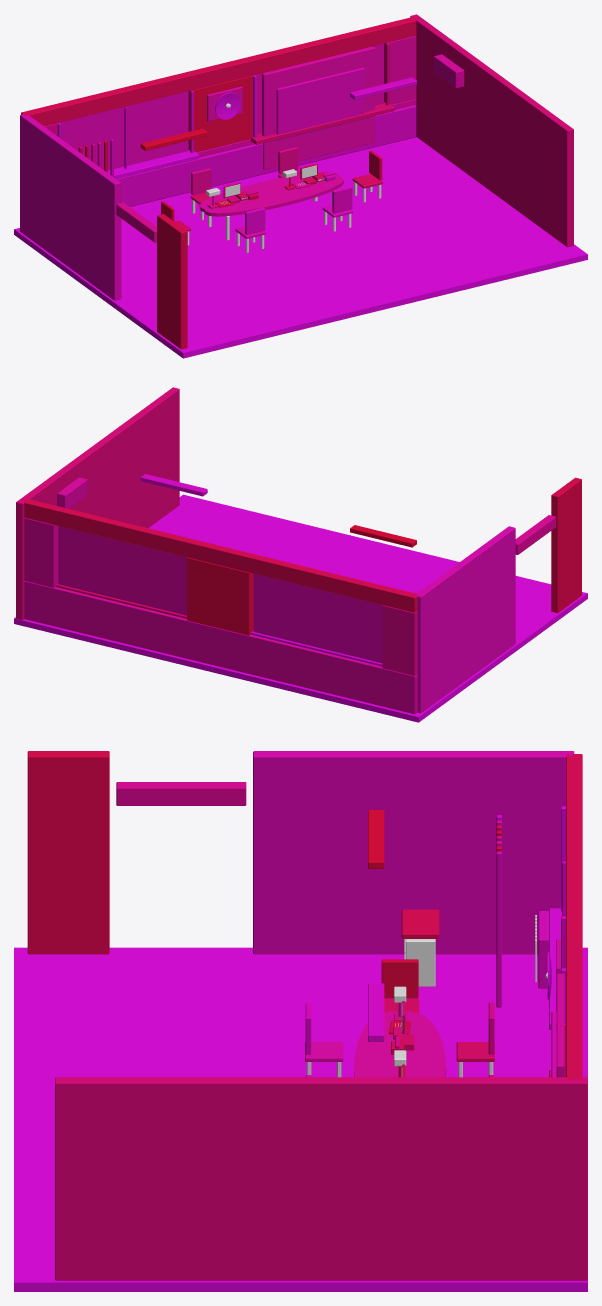
File: court_chapter_15.glb
The picture shows the model from 3 angles, top to bottom: view 1: azimuth 30°, elevation 25°; view 2: azimuth 150°, elevation 25°; view 3: azimuth 270°, elevation 25°; orthographic projection. The views are drawn at different scales.
Visible parts, largest first — view 1: Floor, WallRight, WallLeftRear, WallBackHigh, BriefingWall, Wainscot, Glazing_0, BriefingDisplay, WallLeftFront, CouncilTable, WallBackPier_1, WallBackPier_end (+16 smaller); view 2: Floor, WallBackLow, WallLeftRear, WallRight, WallBackHigh, Glazing_0, Glazing_1, WallBackPier_1, WallLeftFront, WallBackPier_0, WallBackPier_end, DoorLintel (+5 smaller); view 3: WallRight, Floor, WallLeftRear, WallLeftFront, WallBackHigh, CouncilTable, DoorLintel, ReceptionConsole, Chair_officials_4, Chair_officials_0, Chair_officials_2, Fluorescent_1 (+5 smaller).
Boxes of the visible parts, box(x1,y1,x2,y2) form: Floor: box(14, 137, 587, 358); WallRight: box(410, 14, 573, 247); WallLeftRear: box(20, 114, 121, 300); WallBackHigh: box(21, 16, 418, 126); BriefingWall: box(262, 46, 375, 169); Wainscot: box(116, 105, 416, 206); Glazing_0: box(59, 91, 188, 170); BriefingDisplay: box(276, 67, 364, 140); WallLeftFront: box(157, 214, 187, 349); CouncilTable: box(199, 172, 343, 240); WallBackPier_1: box(188, 75, 253, 152); WallBackPier_end: box(384, 36, 416, 104); Floor: box(14, 494, 587, 722); WallBackLow: box(24, 581, 417, 714); WallLeftRear: box(417, 526, 515, 713); WallRight: box(16, 387, 179, 620); WallBackHigh: box(22, 498, 418, 612); Glazing_0: box(253, 573, 382, 662); Glazing_1: box(58, 526, 186, 615); WallBackPier_1: box(187, 557, 253, 635); WallLeftFront: box(551, 477, 581, 613); WallBackPier_0: box(382, 605, 417, 675); WallBackPier_end: box(24, 518, 58, 587); DoorLintel: box(515, 515, 555, 554); WallRight: box(55, 1077, 587, 1280); Floor: box(14, 947, 587, 1291); WallLeftRear: box(253, 751, 574, 954); WallLeftFront: box(27, 751, 109, 954); WallBackHigh: box(566, 754, 582, 1079); CouncilTable: box(354, 1011, 446, 1077); DoorLintel: box(116, 782, 246, 805); ReceptionConsole: box(401, 909, 439, 986); Chair_officials_4: box(381, 959, 419, 1012); Chair_officials_0: box(456, 1002, 494, 1077); Chair_officials_2: box(305, 1002, 343, 1077); Fluorescent_1: box(368, 983, 384, 1041).
Size of the model in its own units: 11.6 by 3.35 by 8.4.
